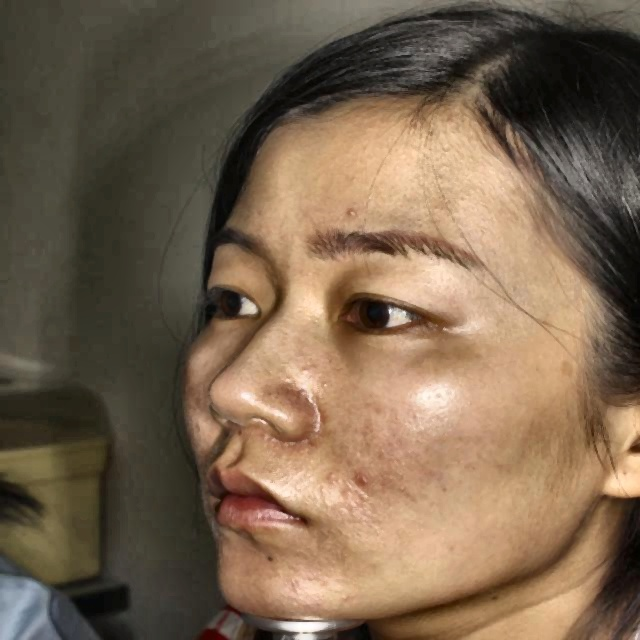comedone: (344, 469, 370, 496)
